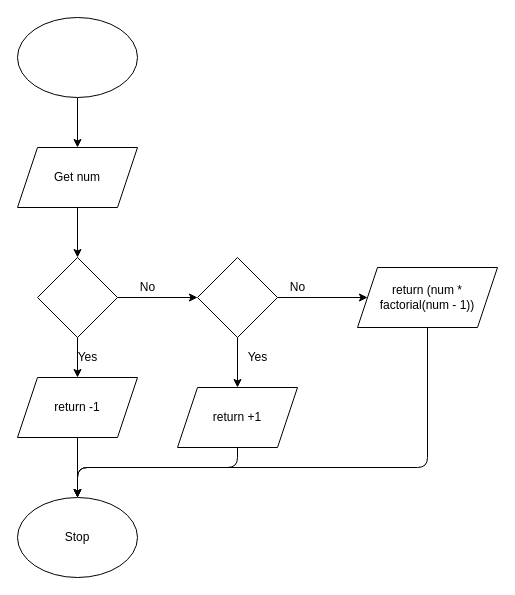
The diagram is 515 pixels wide and 595 high, and some of its shapes have lost their labels. The box of each missing label's shape, as (x1, y1, x2, y2) in pixels:
if num < 0: (36, 256, 118, 338)
if num == 1: (196, 256, 278, 338)
Start: (16, 16, 138, 98)
